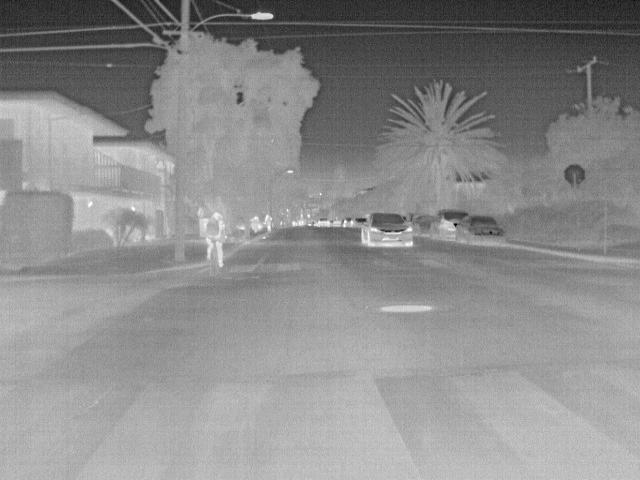car: (361, 212, 415, 248), (454, 214, 509, 246), (431, 209, 470, 241), (411, 214, 438, 235), (352, 218, 369, 228), (317, 218, 332, 228)
person: (204, 209, 226, 271)
